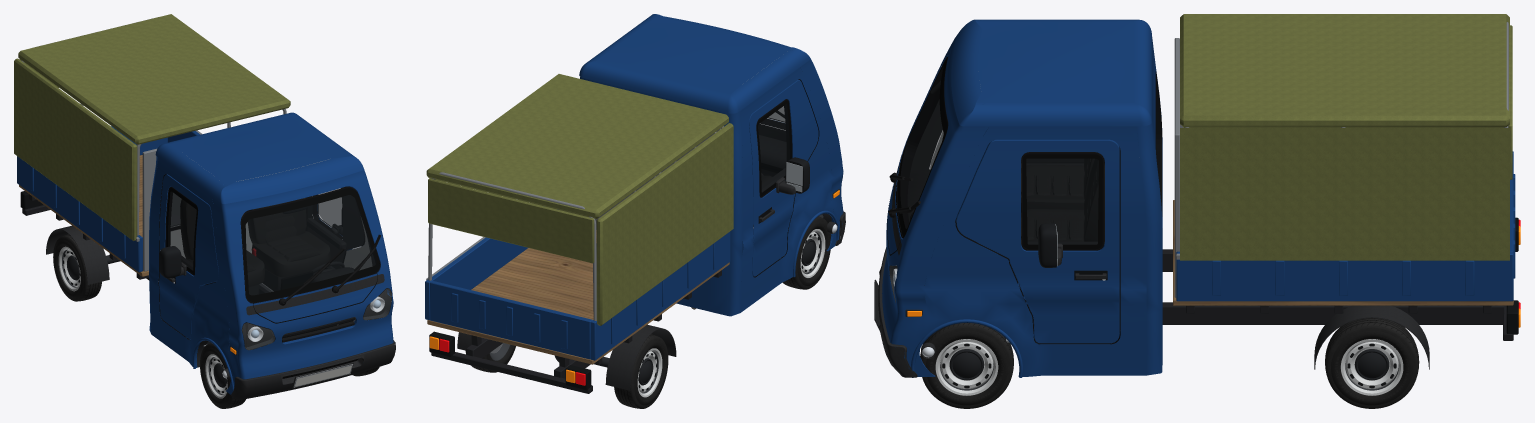
File: kei-truck-with-canopy.glb
The picture shows the model from 3 angles, left to right: view 1: azimuth 30°, elevation 25°; view 2: azimuth 150°, elevation 25°; view 3: azimuth 270°, elevation 25°; orthographic projection. The views are drawn at different scales.
Parts seen in each view (by area): view 1: Kei_Truck_Canopy, Door_R, Drop_Side_R, Door_L, Wheel_Rear_R, Wheel_Front_R; view 2: Kei_Truck_Canopy, Door_R, Tailgate, Drop_Side_R, Drop_Side_L, Wheel_Rear_R, Wheel_Front_R, Wheel_Rear_L; view 3: Kei_Truck_Canopy, Door_L, Drop_Side_L, Wheel_Rear_L, Wheel_Front_L, Tailgate.
Part boxes in pixels (box(x1,y1,x2,y2)): Kei_Truck_Canopy: box(14, 14, 395, 399); Door_R: box(159, 174, 218, 339); Drop_Side_R: box(17, 156, 142, 272); Door_L: box(306, 186, 365, 269); Wheel_Rear_R: box(53, 234, 101, 301); Wheel_Front_R: box(200, 343, 245, 408); Kei_Truck_Canopy: box(426, 14, 845, 393); Door_R: box(749, 80, 818, 276); Tailgate: box(430, 281, 592, 359); Drop_Side_R: box(590, 231, 730, 360); Drop_Side_L: box(425, 237, 528, 320); Wheel_Rear_R: box(614, 334, 668, 408); Wheel_Front_R: box(782, 216, 831, 289); Wheel_Rear_L: box(465, 343, 515, 372); Kei_Truck_Canopy: box(874, 14, 1520, 377); Door_L: box(956, 139, 1119, 343); Drop_Side_L: box(1176, 251, 1513, 301); Wheel_Rear_L: box(1325, 318, 1419, 408); Wheel_Front_L: box(920, 323, 1013, 408); Tailgate: box(1510, 154, 1515, 278).
Size of the model in its own units: 1.82 by 1.9 by 3.7.
54 materials, 11 textured.
